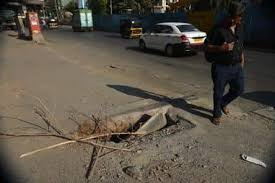Manhole-Open: (99, 97, 190, 151)
car: (138, 14, 210, 57)
human: (210, 9, 256, 133)
